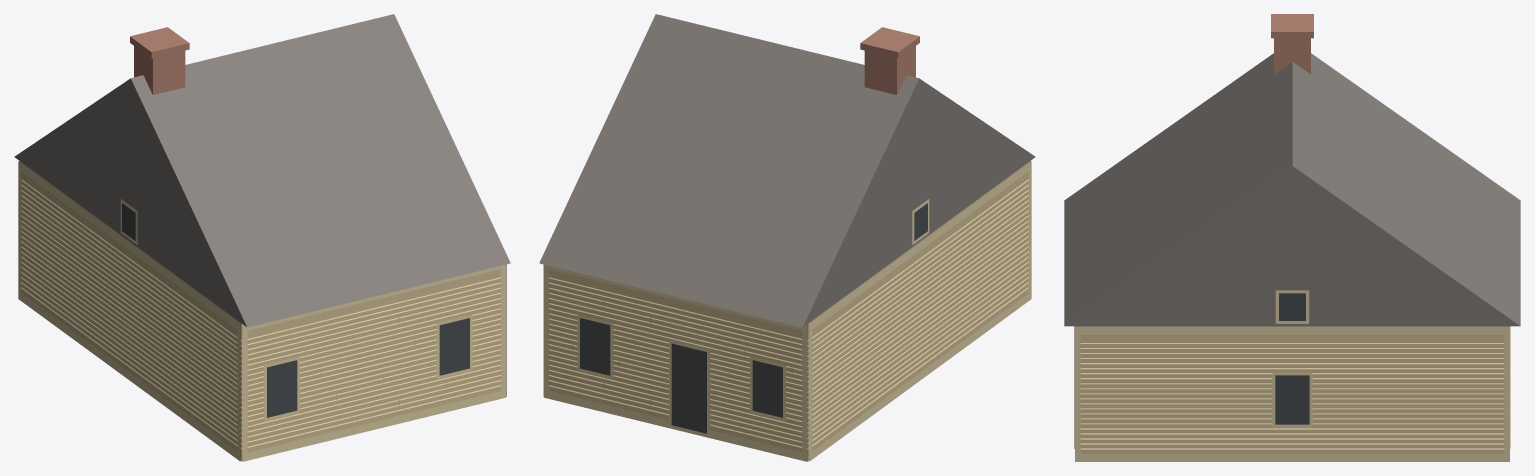
File: recon_1835_blk_randolph_market_d6_02__inferred_1835.glb
The picture shows the model from 3 angles, left to right: view 1: azimuth 30°, elevation 25°; view 2: azimuth 150°, elevation 25°; view 3: azimuth 270°, elevation 25°; orthographic projection. The views are drawn at different scales.
Visible parts, largest first — view 1: recon_1835_blk_randolph_market_d6_02__inferred_1835; view 2: recon_1835_blk_randolph_market_d6_02__inferred_1835; view 3: recon_1835_blk_randolph_market_d6_02__inferred_1835.
Part boxes in pixels (left/top/right/bottom): recon_1835_blk_randolph_market_d6_02__inferred_1835: left=14, top=14, right=510, bottom=461; recon_1835_blk_randolph_market_d6_02__inferred_1835: left=539, top=14, right=1035, bottom=461; recon_1835_blk_randolph_market_d6_02__inferred_1835: left=1064, top=14, right=1520, bottom=461.
Bounding box in the file's own units: 6.92 × 8.25 × 10.46.
